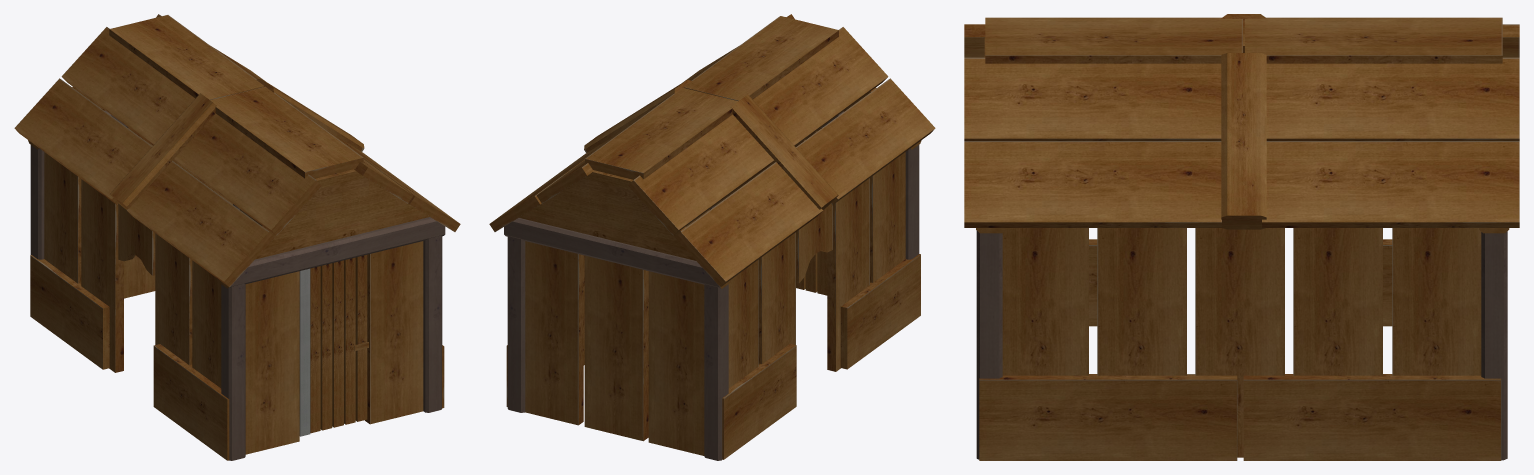
File: Shack with 1 door but 1 hole in the middle.fbx
The picture shows the model from 3 angles, left to right: view 1: azimuth 30°, elevation 25°; view 2: azimuth 150°, elevation 25°; view 3: azimuth 270°, elevation 25°; orthographic projection. The views are drawn at different scales.
Parts seen in each view (by area): view 1: Shack, Door, Shack.001; view 2: Shack, Shack.001, Door; view 3: Shack.
Part boxes in pixels (x1,y1,x2,y2): Shack: [14, 14, 460, 460]; Door: [299, 255, 368, 436]; Shack.001: [118, 203, 155, 275]; Shack: [489, 14, 935, 460]; Shack.001: [796, 203, 832, 283]; Door: [795, 128, 827, 295]; Shack: [964, 14, 1519, 460].
Size of the model in its own units: 823 by 883 by 1239.
1 material, 1 textured.
